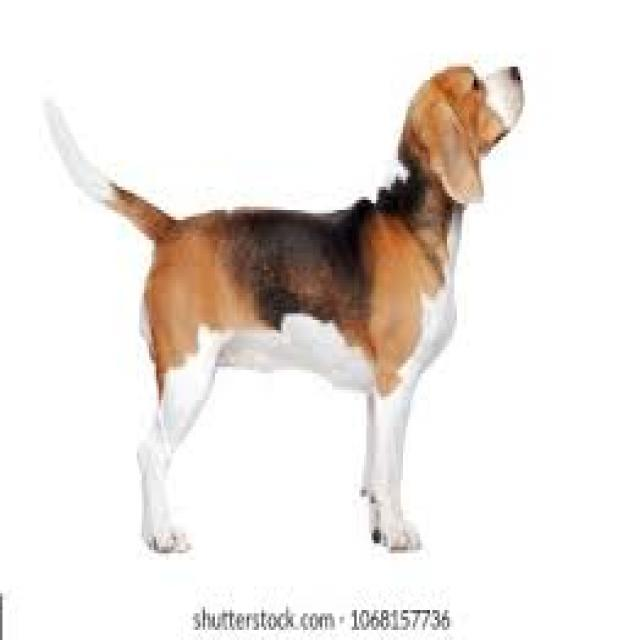Dog: (34, 57, 528, 565)
